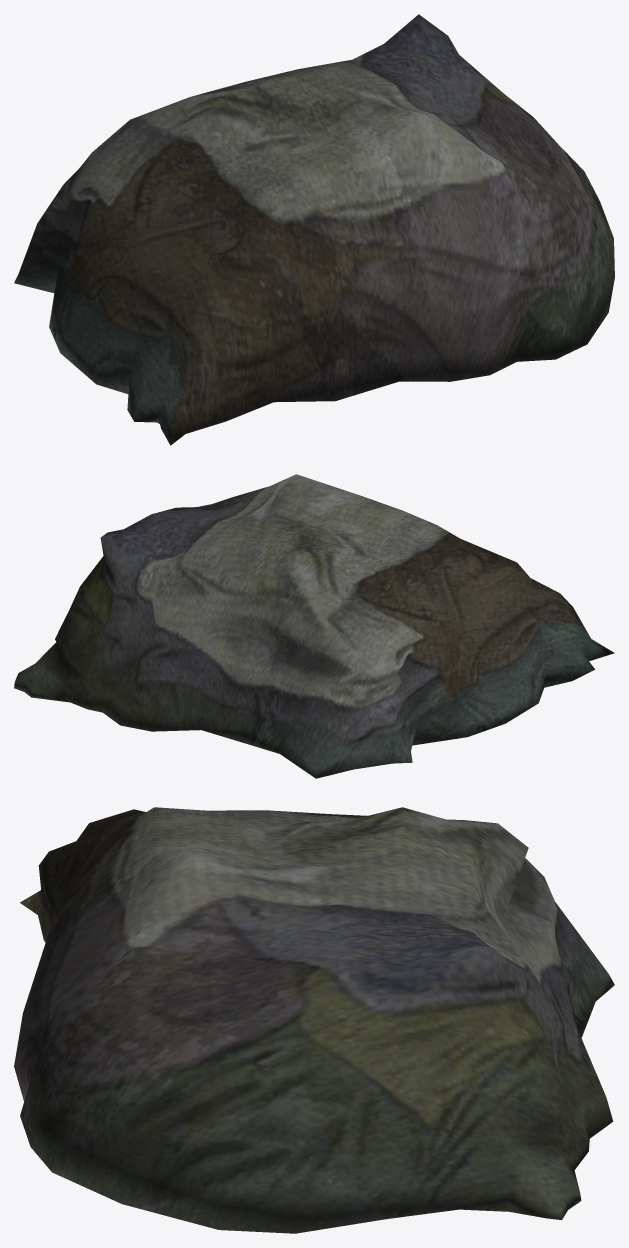
The model's file is shirt_pile.dae.
3 renders of one model, top to bottom at view 1: azimuth 30°, elevation 25°; view 2: azimuth 150°, elevation 25°; view 3: azimuth 270°, elevation 25°, orthographic. The views are drawn at different scales.
Parts seen in each view (by area): view 1: shirt_pile; view 2: shirt_pile; view 3: shirt_pile.
Part boxes in pixels (box(x1,y1,x2,y2)): shirt_pile: box(14, 14, 614, 445); shirt_pile: box(14, 474, 614, 778); shirt_pile: box(14, 807, 614, 1233).
Bounding box in the file's own units: 0.8117 × 0.3111 × 0.6506.
